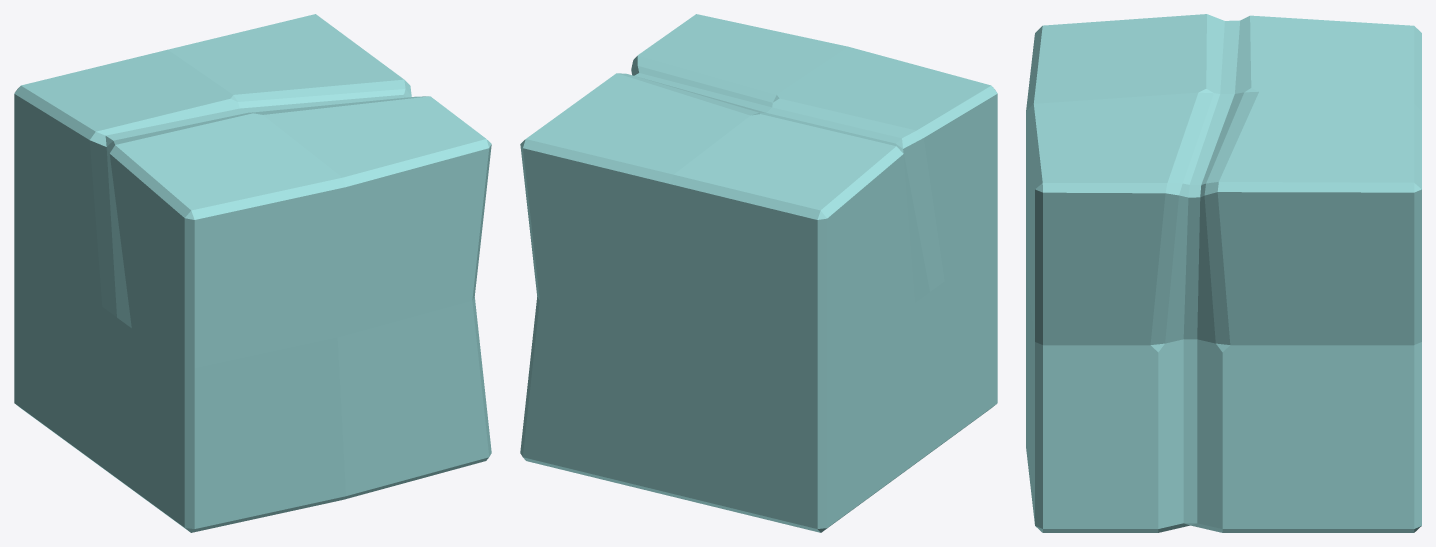
Rendered from ice-block.glb.
The picture shows the model from 3 angles, left to right: view 1: azimuth 30°, elevation 25°; view 2: azimuth 150°, elevation 25°; view 3: azimuth 270°, elevation 25°; orthographic projection. The views are drawn at different scales.
Visible parts, largest first — view 1: Cube; view 2: Cube; view 3: Cube.
Boxes of the visible parts, bbox=[...] form: Cube: bbox=[14, 14, 491, 532]; Cube: bbox=[520, 14, 997, 532]; Cube: bbox=[1026, 14, 1421, 532].
Bounding box in the file's own units: 1 × 1.03 × 1.02.
1 material, 1 textured.
